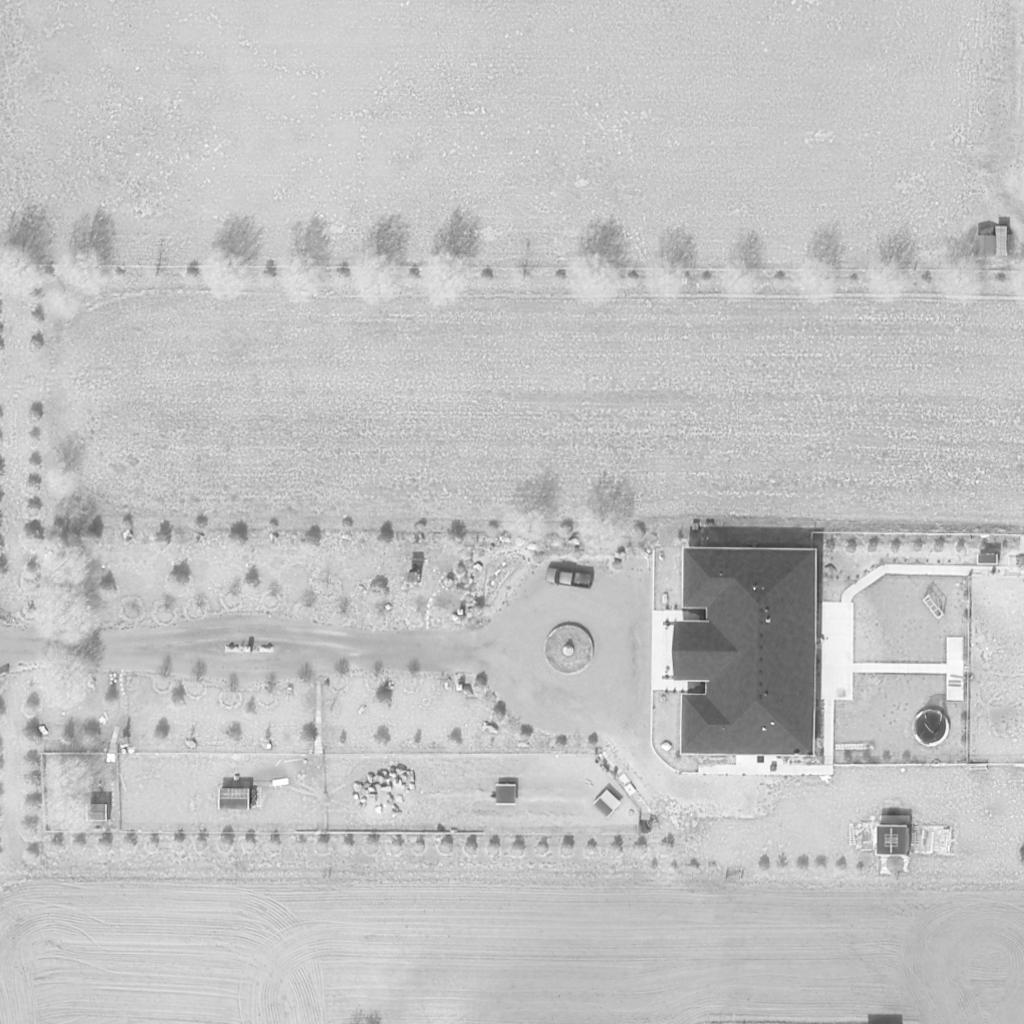vehicle: (544, 567, 594, 591)
